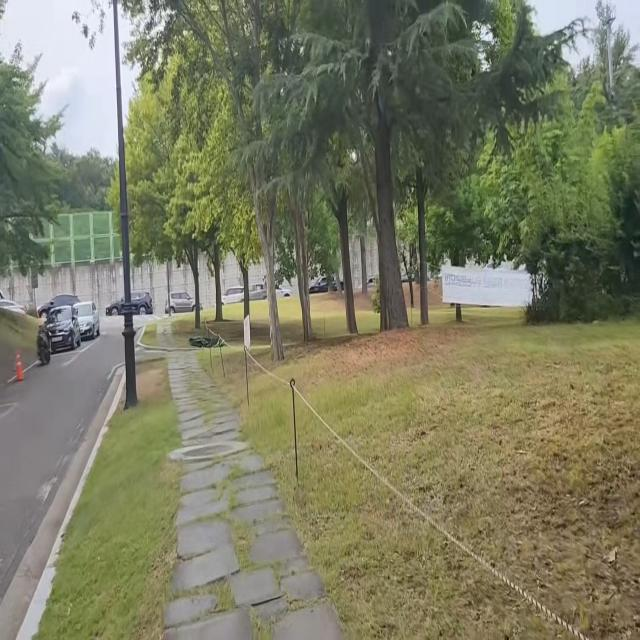obstacle: (112, 1, 146, 413), (32, 295, 108, 372)
sidewalk: (155, 313, 356, 640)
